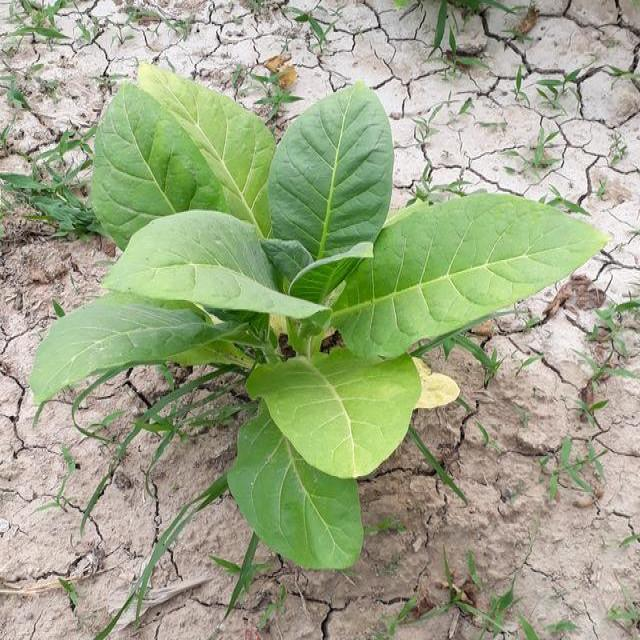crop: (51, 83, 588, 566)
